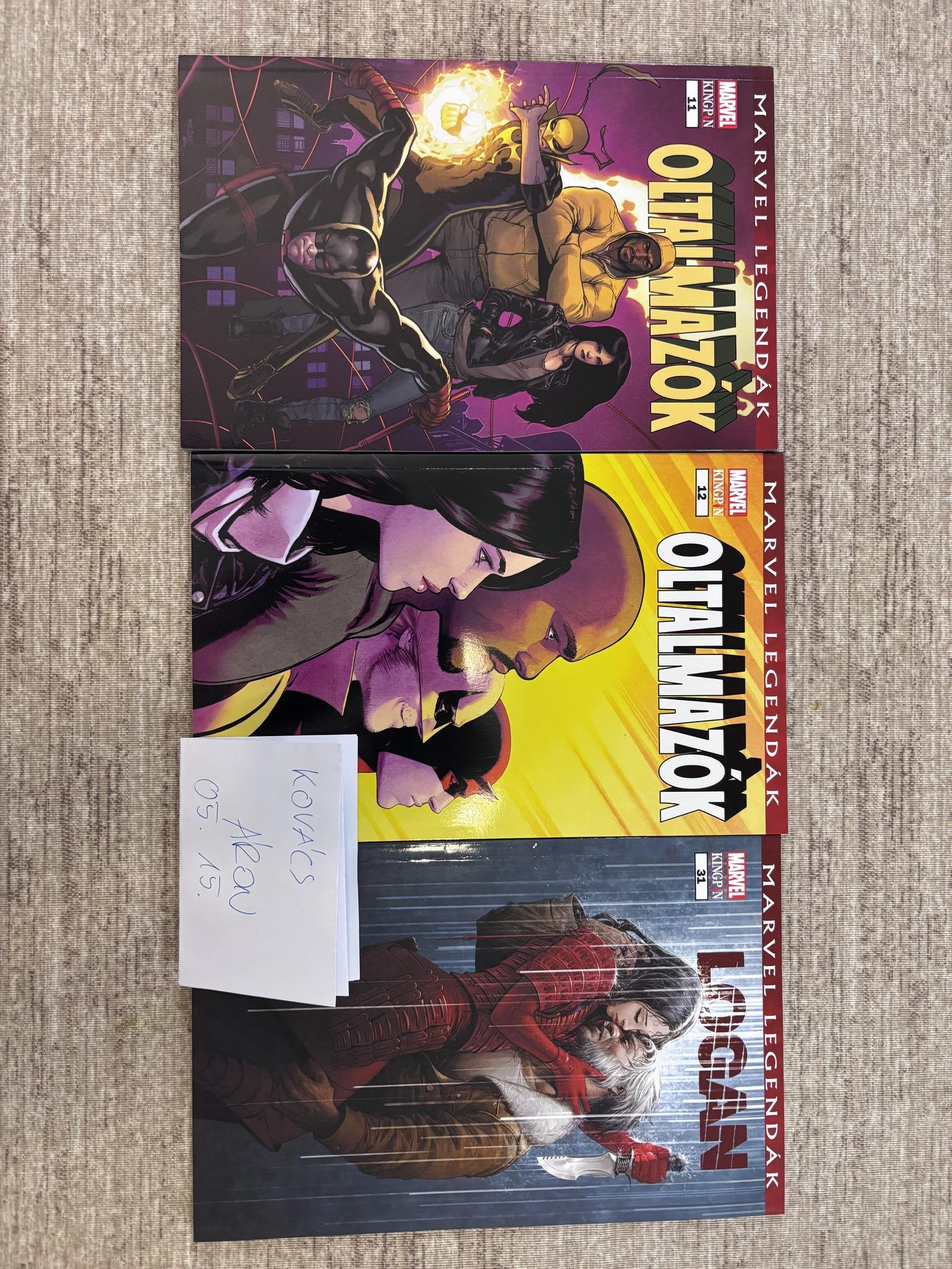comic: (183, 831, 790, 1240), (178, 56, 776, 453), (192, 451, 785, 842)
